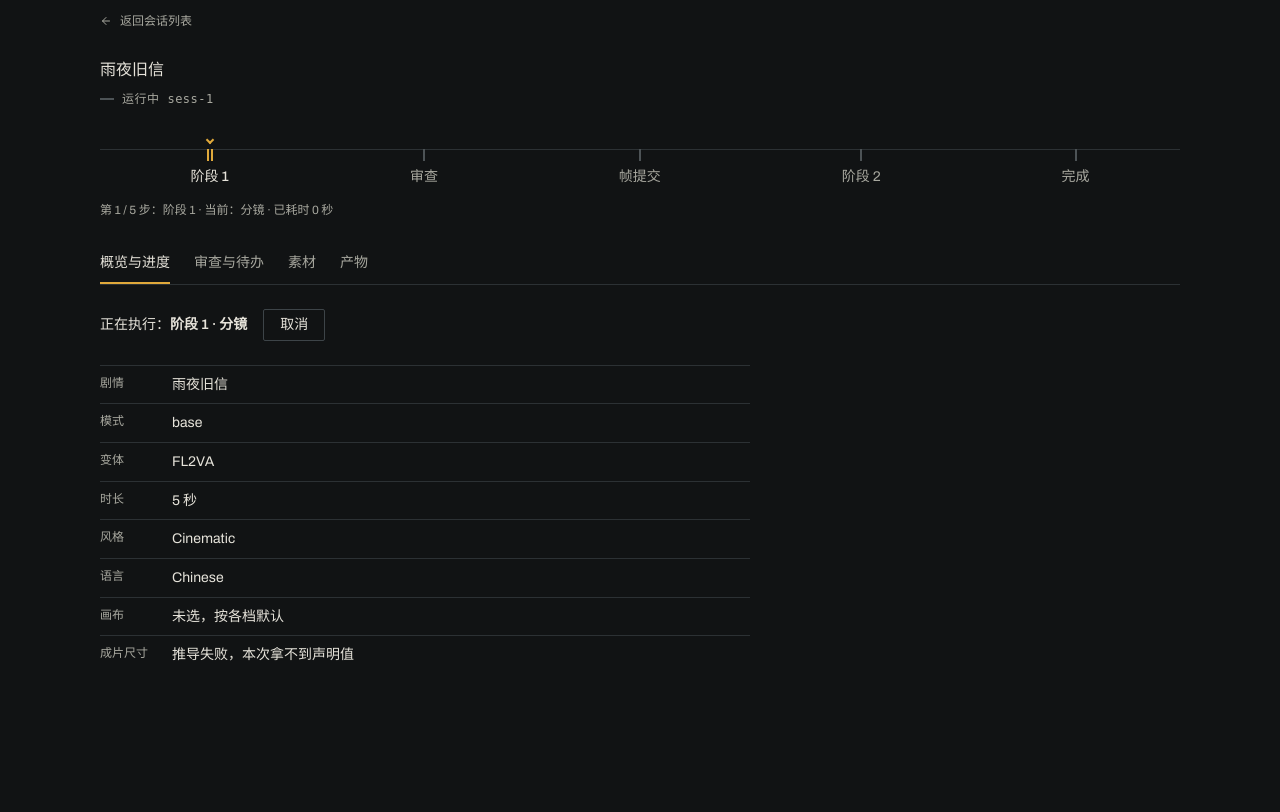
Test: SessionDetailView 运行控制（spec §6.3） › 运行中显示 job.progress 的当前节点；取消是协作式并重拉快照
The image size is (1280, 812).
Click the button "取消": point(294, 325) [263,309,325,341]
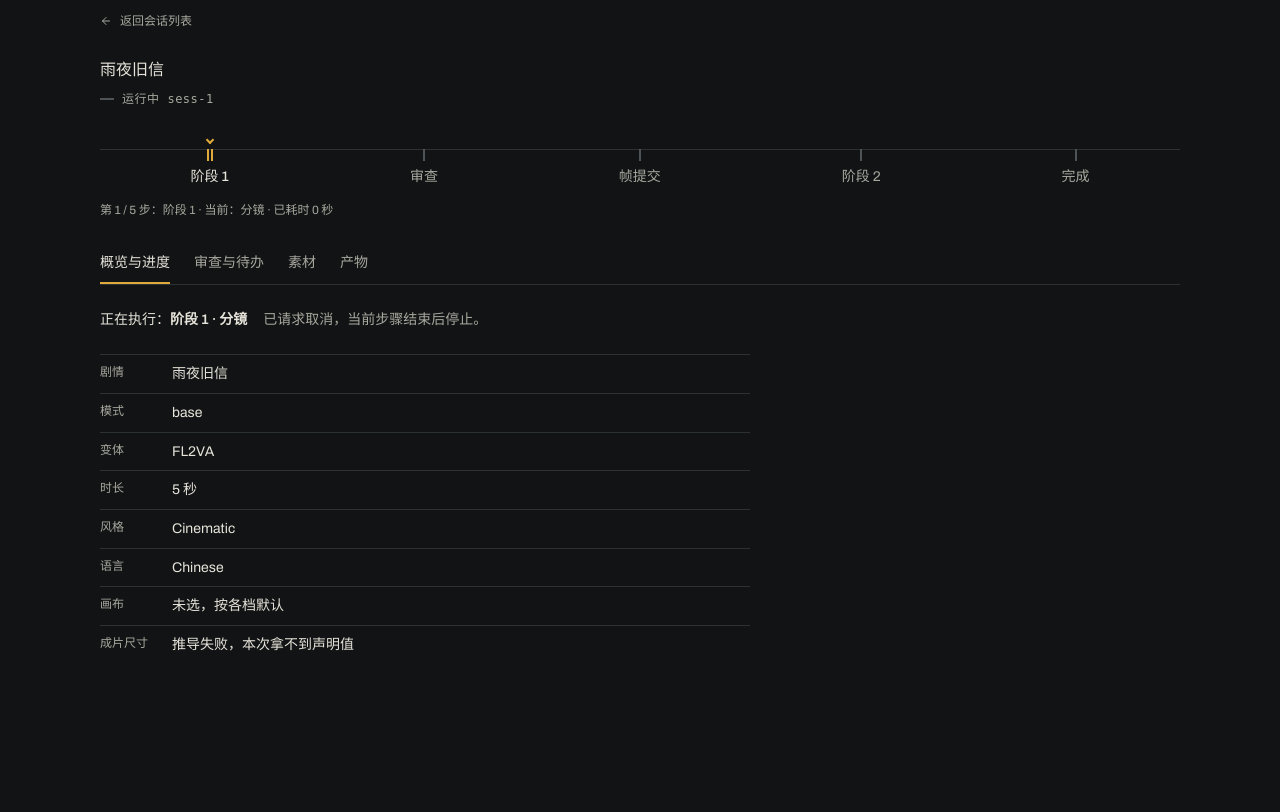
Expected: the text "当前步骤结束后停止" is shown, [263,312,487,327]
